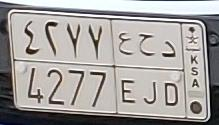2: (44, 20, 65, 105)
4: (23, 20, 45, 104)
7: (66, 22, 85, 106), (88, 24, 107, 108)
D: (161, 40, 179, 106)
E: (118, 31, 137, 103)
J: (138, 33, 157, 104)
